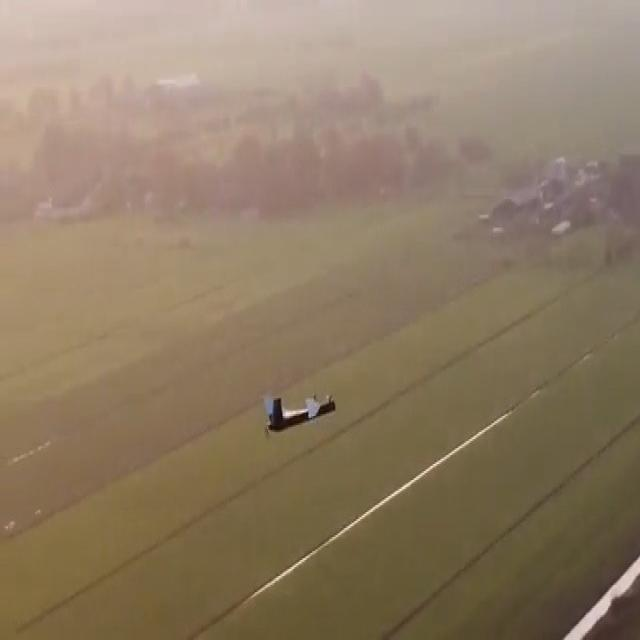drones: (259, 371, 343, 450)
